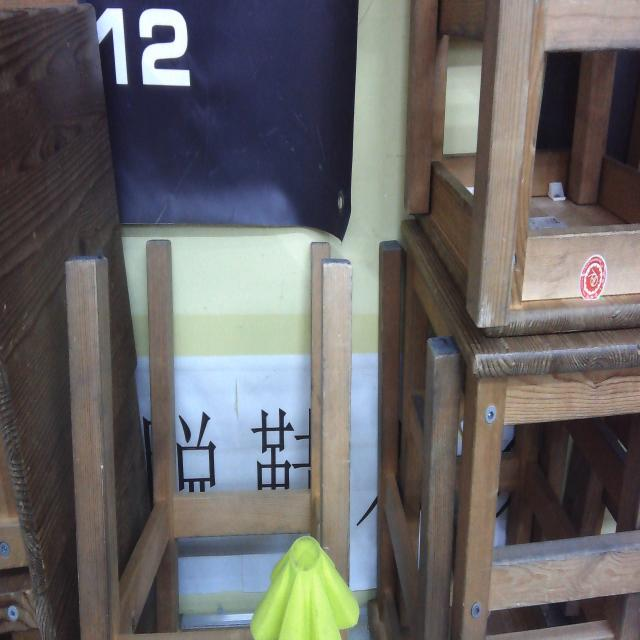Yellow-Stake-Head: (250, 536, 360, 640)
